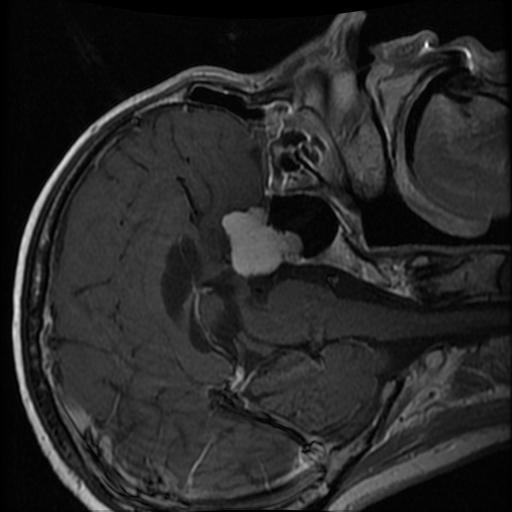meningioma: (220, 207, 282, 275)
